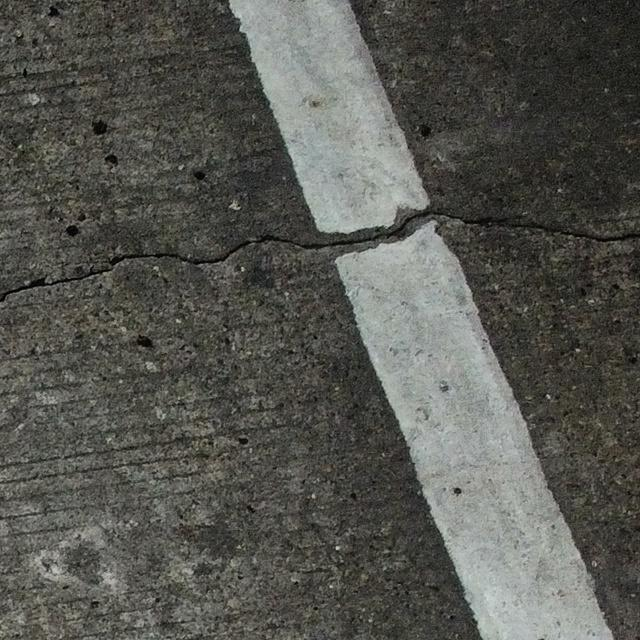TransverseCrack: (1, 210, 640, 301)
